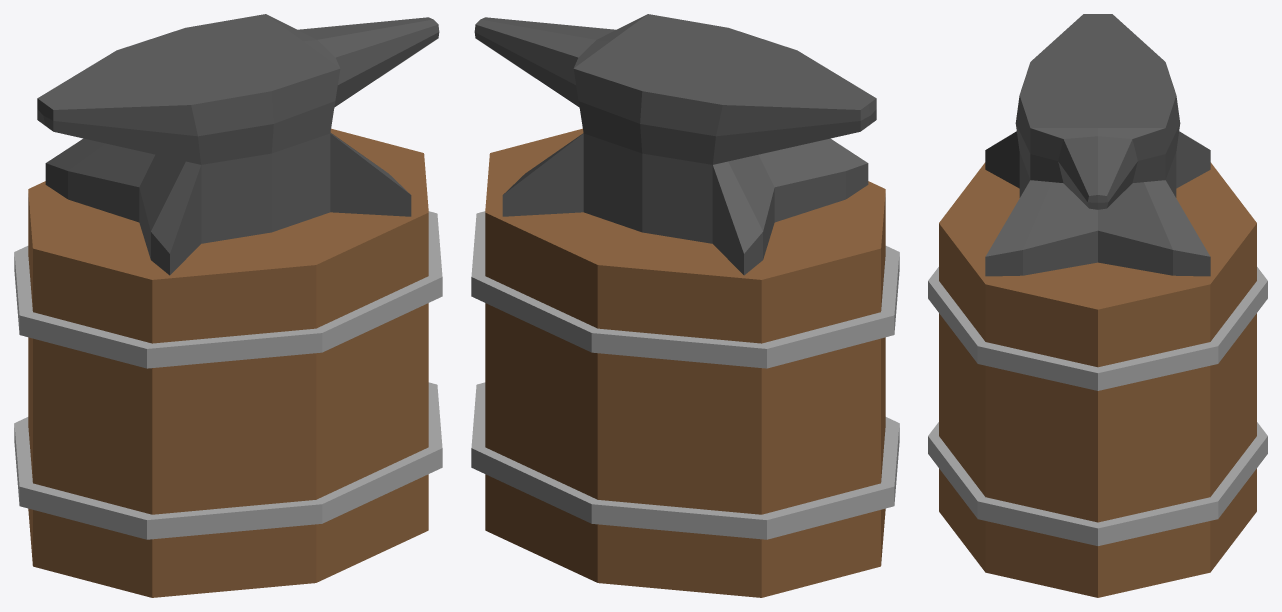
File: Anvil_mat.fbx
The picture shows the model from 3 angles, left to right: view 1: azimuth 30°, elevation 25°; view 2: azimuth 150°, elevation 25°; view 3: azimuth 270°, elevation 25°; orthographic projection. The views are drawn at different scales.
Visible parts, largest first — view 1: Anvil_mat; view 2: Anvil_mat; view 3: Anvil_mat.
Part boxes in pixels (<box>): Anvil_mat: <box>14,14,442,597</box>; Anvil_mat: <box>471,14,899,597</box>; Anvil_mat: <box>928,14,1267,597</box>.
Bounding box in the file's own units: 0.5888 × 0.6184 × 0.4574.
